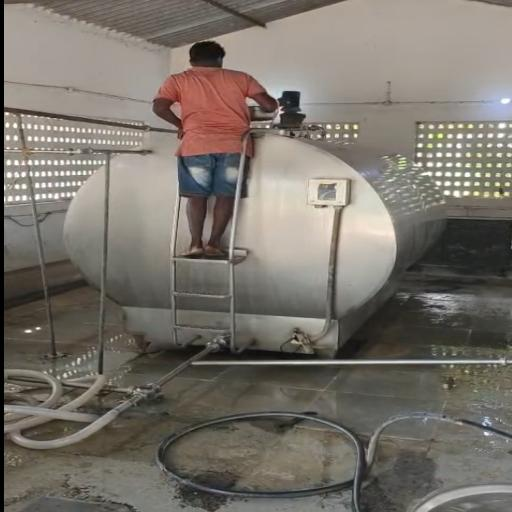silo: (62, 126, 450, 353)
vessel: (248, 106, 280, 121)
